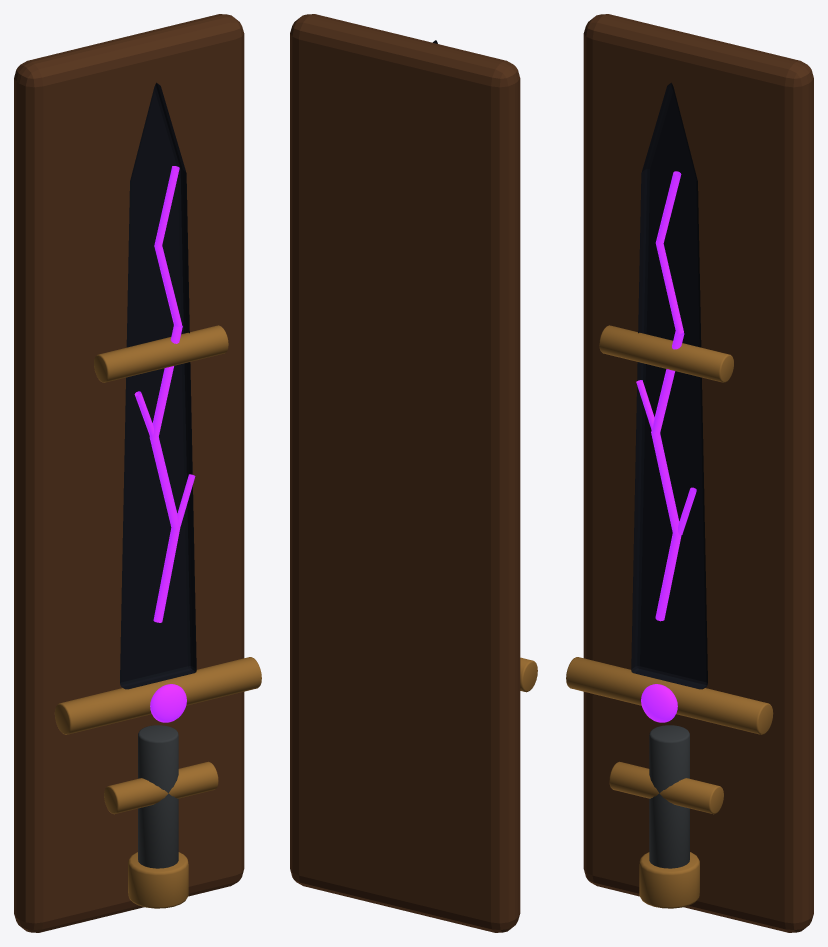
The model's file is Nightforge-Wall-Display-v002.glb.
3 renders of one model, left to right at view 1: azimuth 30°, elevation 25°; view 2: azimuth 150°, elevation 25°; view 3: azimuth 330°, elevation 25°, orthographic.
Parts seen in each view (by area): view 1: Nightforge_DisplayPlaque, Nightforge_Blade, Nightforge_Guard, Nightforge_Grip, Nightforge_BracketTop, Nightforge_BracketBottom, Nightforge_Fracture_A, Nightforge_Pommel, Nightforge_Fracture_D, Nightforge_GuardGem; view 2: Nightforge_DisplayPlaque, Nightforge_Guard; view 3: Nightforge_DisplayPlaque, Nightforge_Blade, Nightforge_Guard, Nightforge_Grip, Nightforge_BracketTop, Nightforge_BracketBottom, Nightforge_Pommel, Nightforge_Fracture_A, Nightforge_Fracture_D, Nightforge_GuardGem.
Part boxes in pixels (x1,y1,x2,y2): Nightforge_DisplayPlaque: [14, 14, 244, 932]; Nightforge_Blade: [120, 82, 196, 689]; Nightforge_Guard: [54, 657, 261, 734]; Nightforge_Grip: [138, 725, 178, 868]; Nightforge_BracketTop: [94, 325, 228, 382]; Nightforge_BracketBottom: [104, 761, 218, 814]; Nightforge_Fracture_A: [149, 325, 182, 622]; Nightforge_Pommel: [128, 852, 188, 908]; Nightforge_Fracture_D: [154, 166, 181, 326]; Nightforge_GuardGem: [150, 684, 186, 722]; Nightforge_DisplayPlaque: [290, 14, 520, 932]; Nightforge_Guard: [520, 657, 537, 692]; Nightforge_DisplayPlaque: [583, 14, 813, 932]; Nightforge_Blade: [631, 82, 707, 689]; Nightforge_Guard: [566, 657, 773, 734]; Nightforge_Grip: [649, 725, 689, 868]; Nightforge_BracketTop: [599, 325, 733, 382]; Nightforge_BracketBottom: [609, 761, 723, 814]; Nightforge_Pommel: [639, 852, 699, 908]; Nightforge_Fracture_A: [651, 331, 684, 621]; Nightforge_Fracture_D: [655, 171, 683, 333]; Nightforge_GuardGem: [641, 684, 677, 722].
Bounding box in the file's own units: 0.44 × 1.64 × 0.188.
